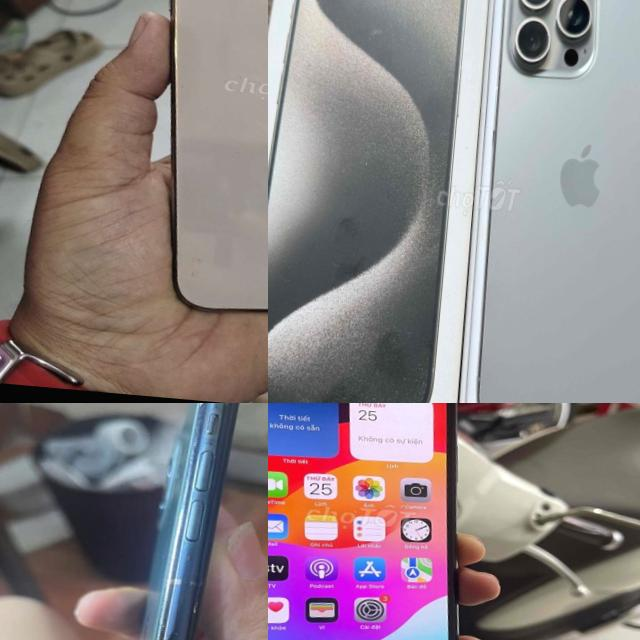scratch: (184, 403, 244, 449), (186, 564, 210, 622), (154, 611, 182, 639)
